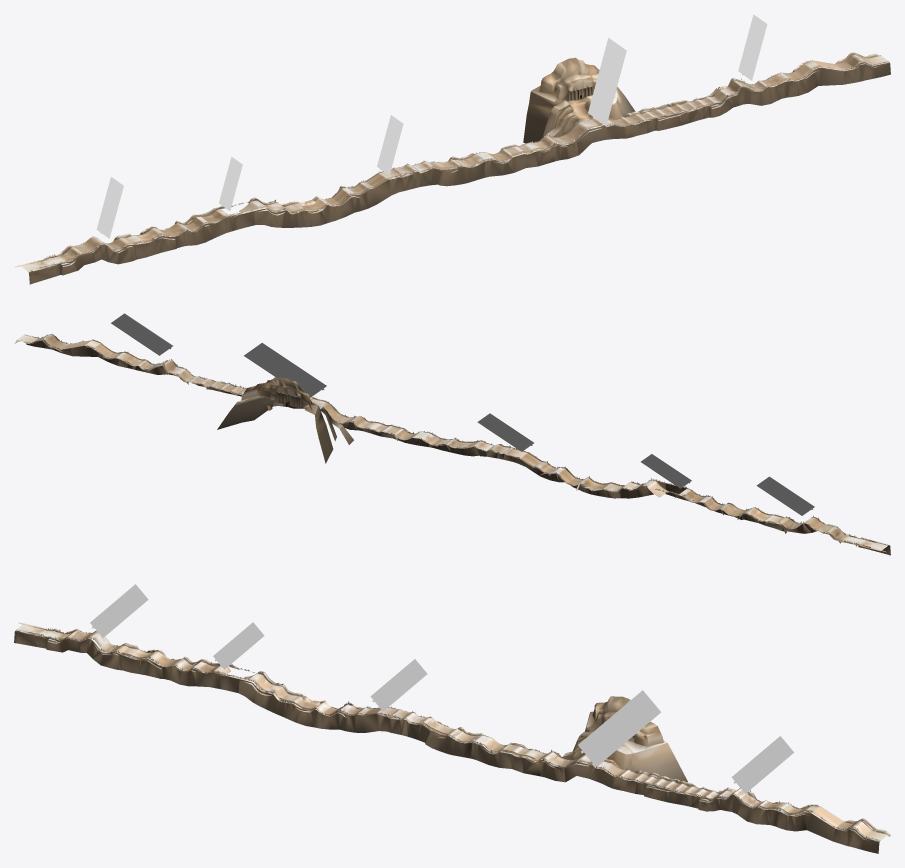
File: Desert_08.fbx
3 views of the same model, one above another, from view 1: azimuth 30°, elevation 25°; view 2: azimuth 150°, elevation 25°; view 3: azimuth 330°, elevation 25° (orthographic).
Parts seen in each view (by area): view 1: Mountain_01, Ground_01, Light_01, Road_01, Tree_01; view 2: Mountain_01, Ground_01, Light_01, Road_01, Tree_01; view 3: Mountain_01, Light_01, Ground_01, Road_01, Tree_01.
Part boxes in pixels (x1,y1,x2,y2): Mountain_01: (28, 52, 890, 284); Ground_01: (21, 55, 887, 270); Light_01: (96, 14, 767, 238); Road_01: (27, 54, 888, 271); Tree_01: (42, 53, 878, 266); Mountain_01: (14, 334, 890, 555); Ground_01: (17, 334, 887, 550); Light_01: (111, 313, 814, 515); Road_01: (16, 335, 887, 551); Tree_01: (21, 334, 870, 544); Mountain_01: (14, 629, 890, 853); Light_01: (90, 584, 793, 793); Ground_01: (17, 624, 887, 839); Road_01: (16, 626, 888, 840); Tree_01: (34, 628, 883, 838).
Bounding box in the file's own units: 98374 × 10280 × 7603.
